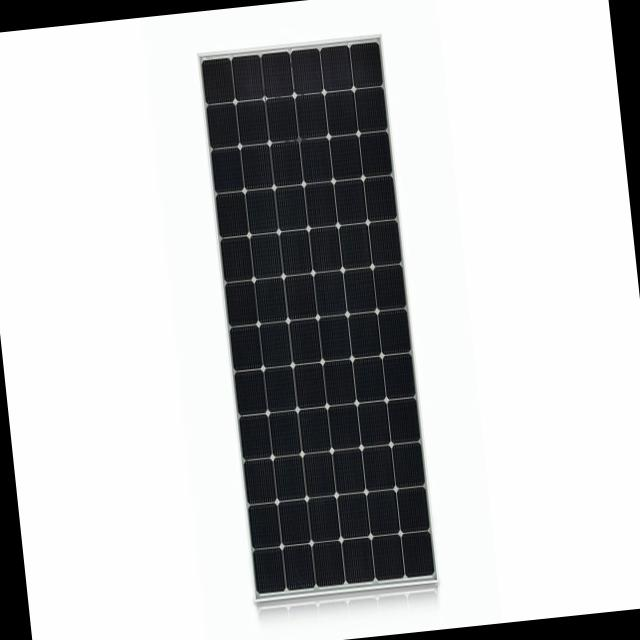no faulty: (195, 42, 432, 590)
